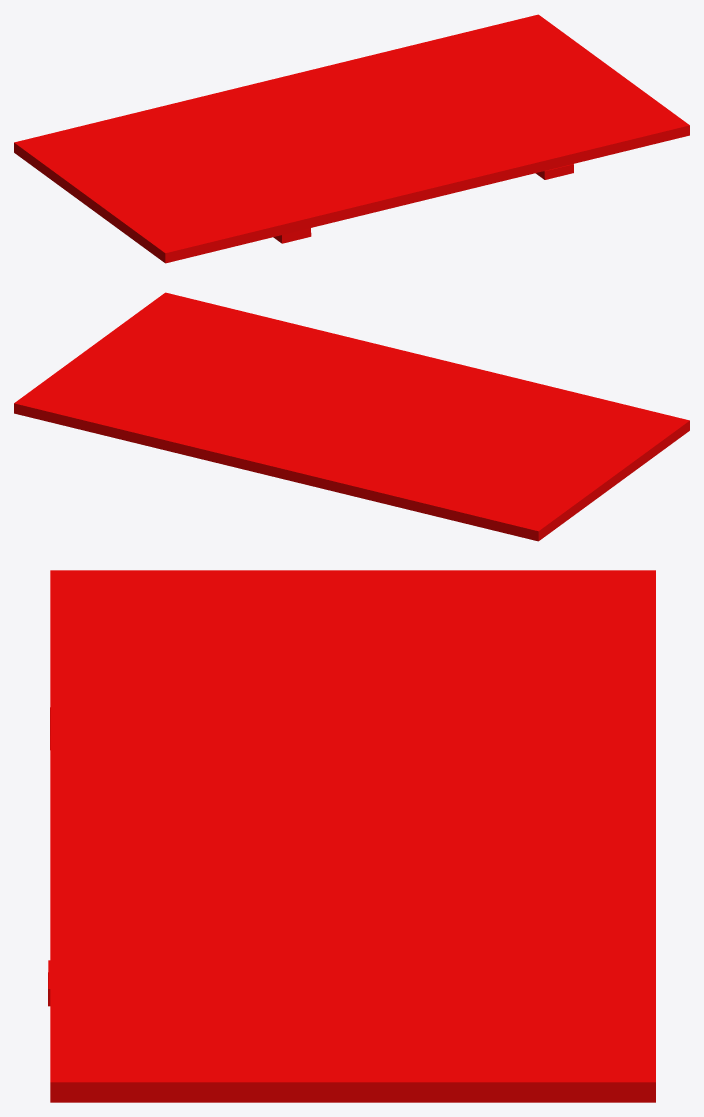
The model's file is Escalera2.FBX.
3 views of the same model, one above another, from view 1: azimuth 30°, elevation 25°; view 2: azimuth 150°, elevation 25°; view 3: azimuth 270°, elevation 25° (orthographic). The views are drawn at different scales.
Visible parts, largest first — view 1: Escaleras2; view 2: Escaleras2; view 3: Escaleras2.
Part boxes in pixels (<box>): Escaleras2: <box>14,14,689,263</box>; Escaleras2: <box>14,292,689,541</box>; Escaleras2: <box>48,570,655,1102</box>.
Bounding box in the file's own units: 157 × 5.41 × 79.02.
